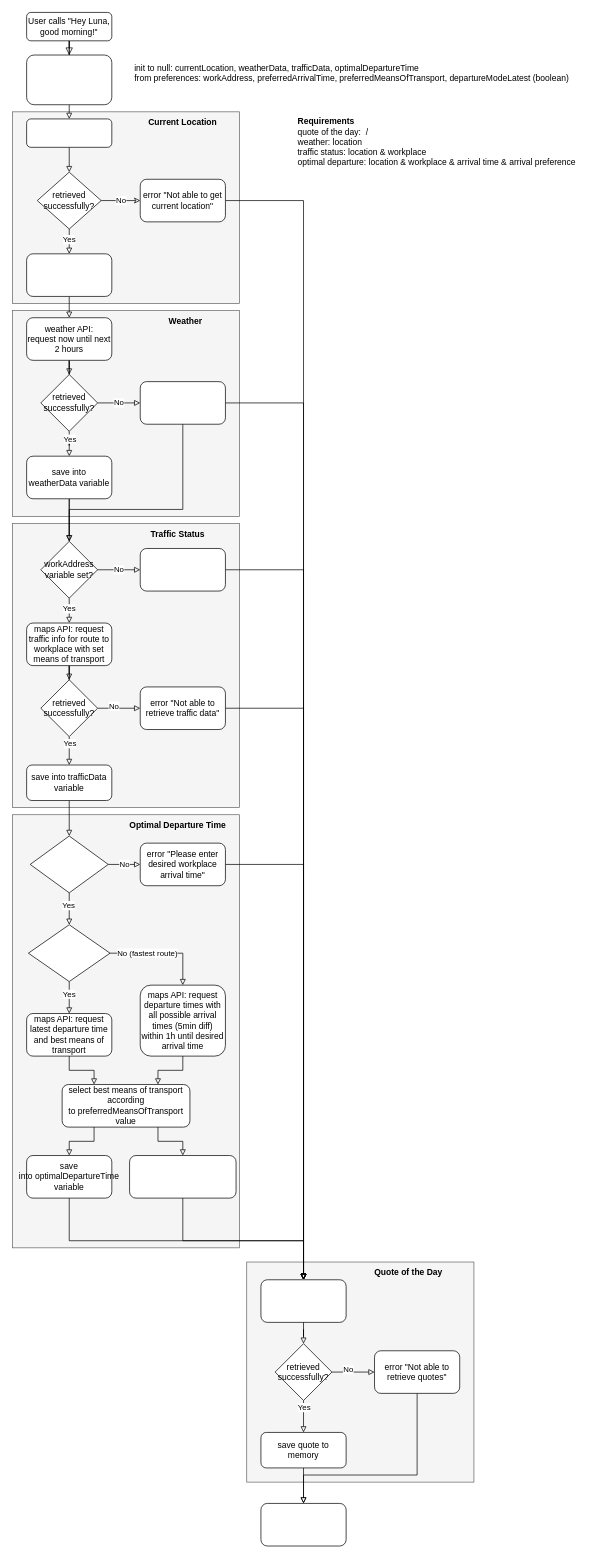
Image size: 607x1558. Some labels were removed from this diagram. The shapes that lost their labels are listed below. From the top down, each one's centre as x and y in pixels, then its label:
point (69, 79): initialize all necessary variables for sub-functions & retrieve from settings
point (69, 132): retrieve current location
point (69, 274): save into currentLocation variable
point (182, 402): error "Not able to retrieve weather data"
point (182, 569): error "Please enter work location"
point (68, 864): preferredArrivalTime variable set?
point (69, 953): departureModeLatest (boolean) variable set?
point (182, 1176): select fastest one and save into optimalDepartureTime variable
point (303, 1300): quote API: request quote of the day
point (303, 1524): generate text & speech output
